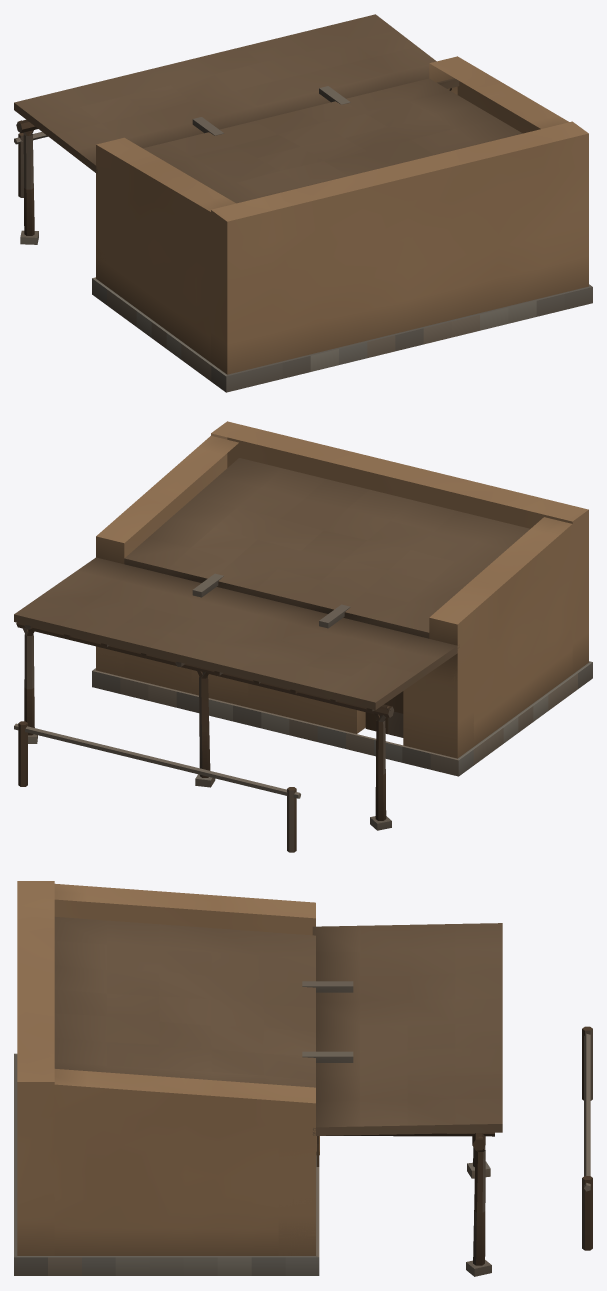
The model's file is casa_pulperia_b.glb.
3 renders of one model, top to bottom at view 1: azimuth 30°, elevation 25°; view 2: azimuth 150°, elevation 25°; view 3: azimuth 270°, elevation 25°, orthographic. The views are drawn at different scales.
Parts seen in each view (by area): view 1: casa_pulperia_b; view 2: casa_pulperia_b; view 3: casa_pulperia_b.
Boxes of the visible parts, <box> form: casa_pulperia_b: <box>14,14,592,392</box>; casa_pulperia_b: <box>14,421,592,852</box>; casa_pulperia_b: <box>14,881,592,1276</box>.
Size of the model in its own units: 7.21 by 3.13 by 8.53.
